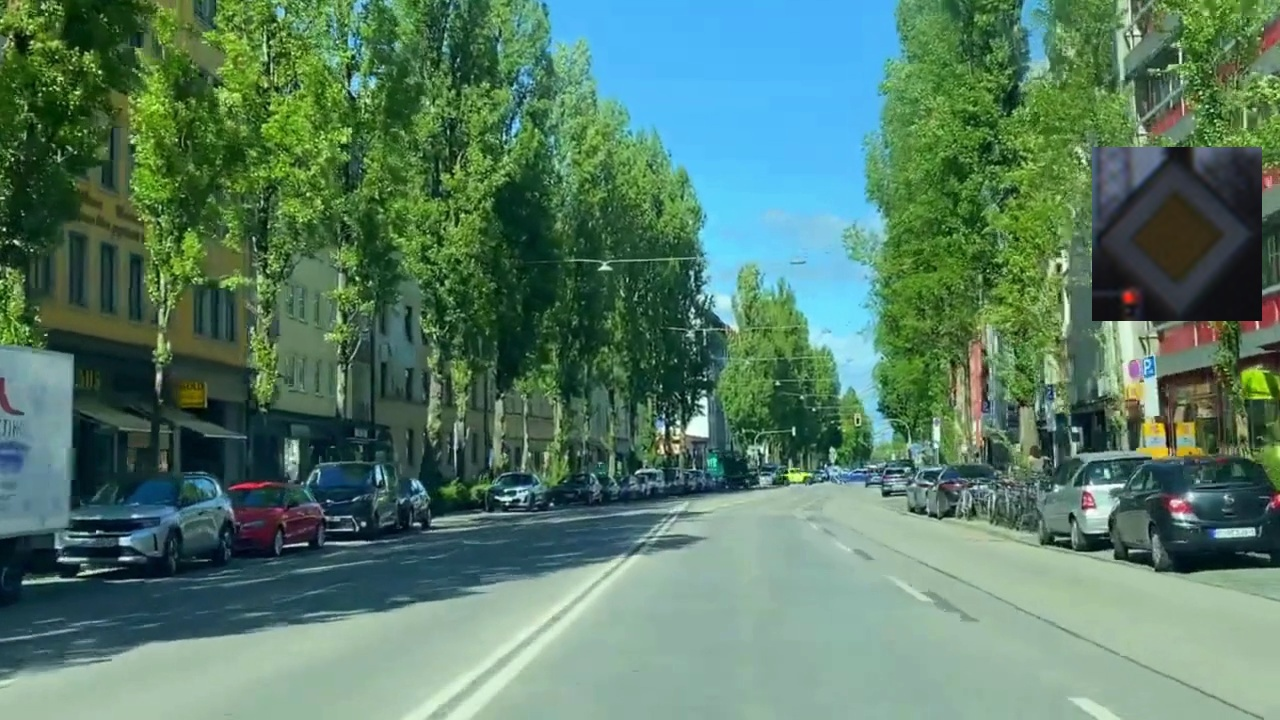Priority road: (1092, 147, 1262, 321)
